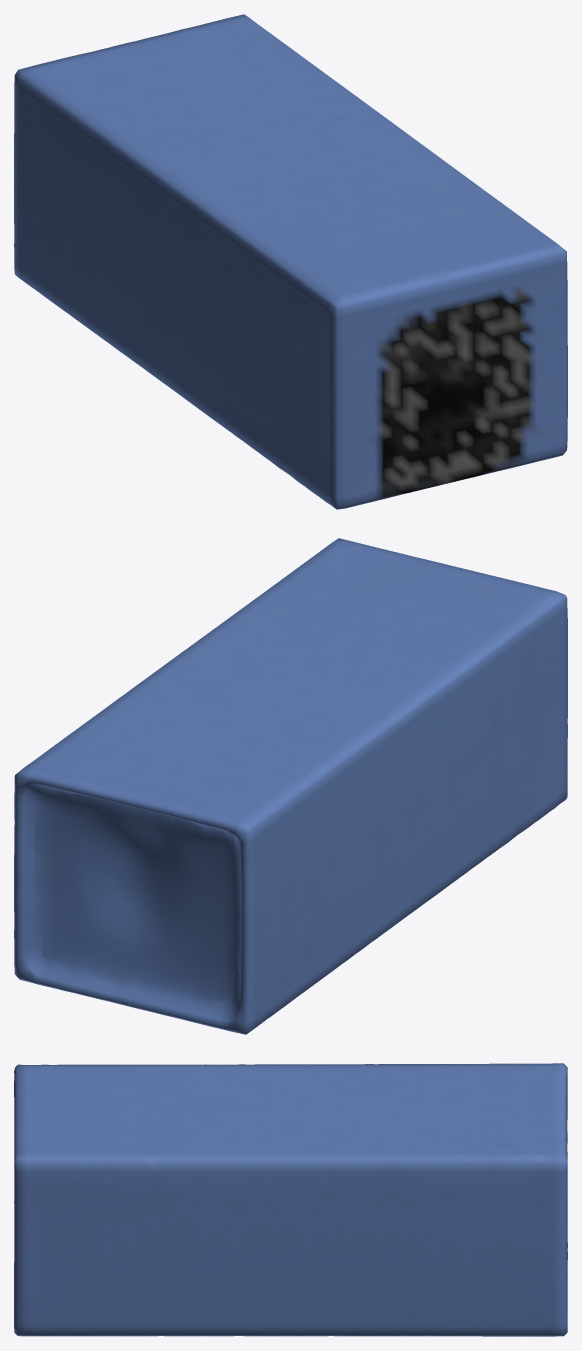
File: a refrigerator to contain objects.obj
3 views of the same model, one above another, from view 1: azimuth 30°, elevation 25°; view 2: azimuth 150°, elevation 25°; view 3: azimuth 270°, elevation 25° (orthographic). The views are drawn at different scales.
Bounding box in the file's own units: 0.4255 × 0.3598 × 1.
